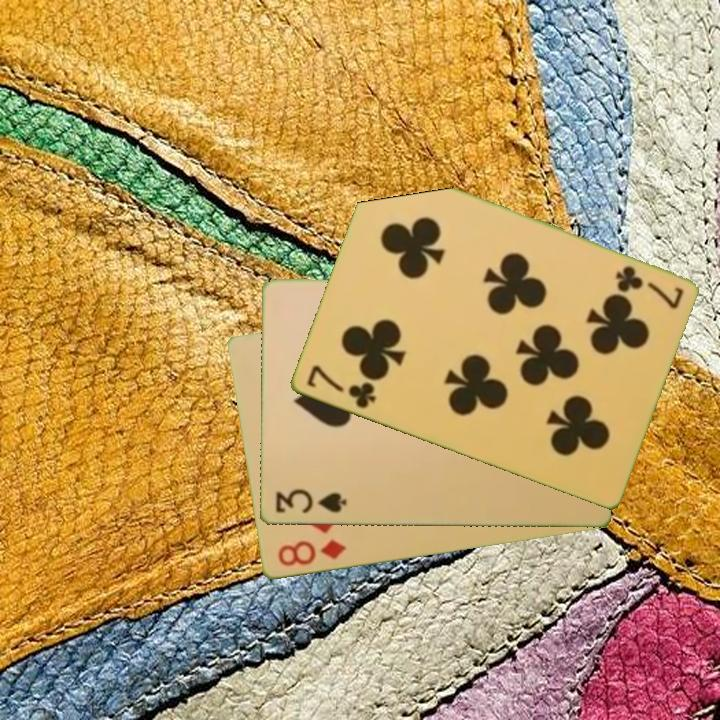3s: (272, 487, 350, 517)
7c: (302, 361, 378, 412), (611, 262, 686, 311)
8d: (274, 536, 349, 570)
